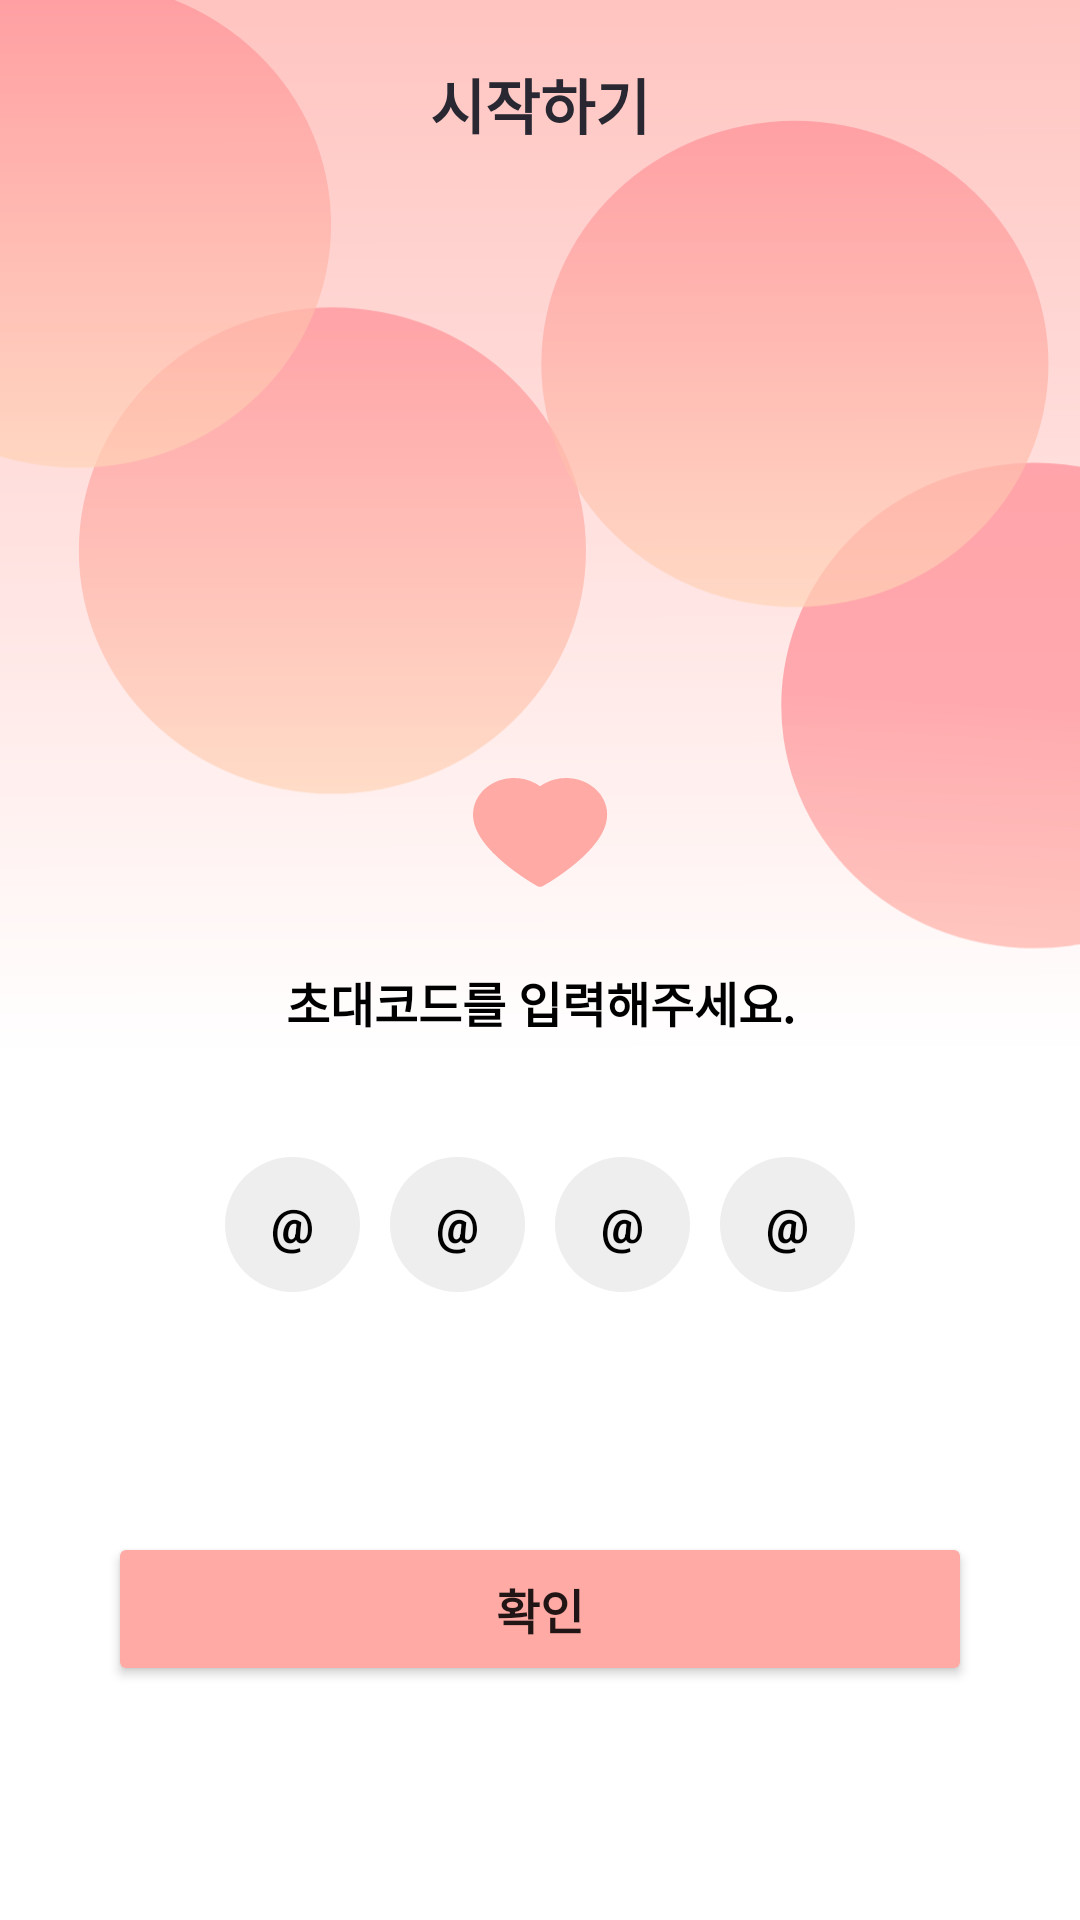

Screen size 1080×1920. Icon name, then its center in pixels as [x,y]:
heart: [540,832]
